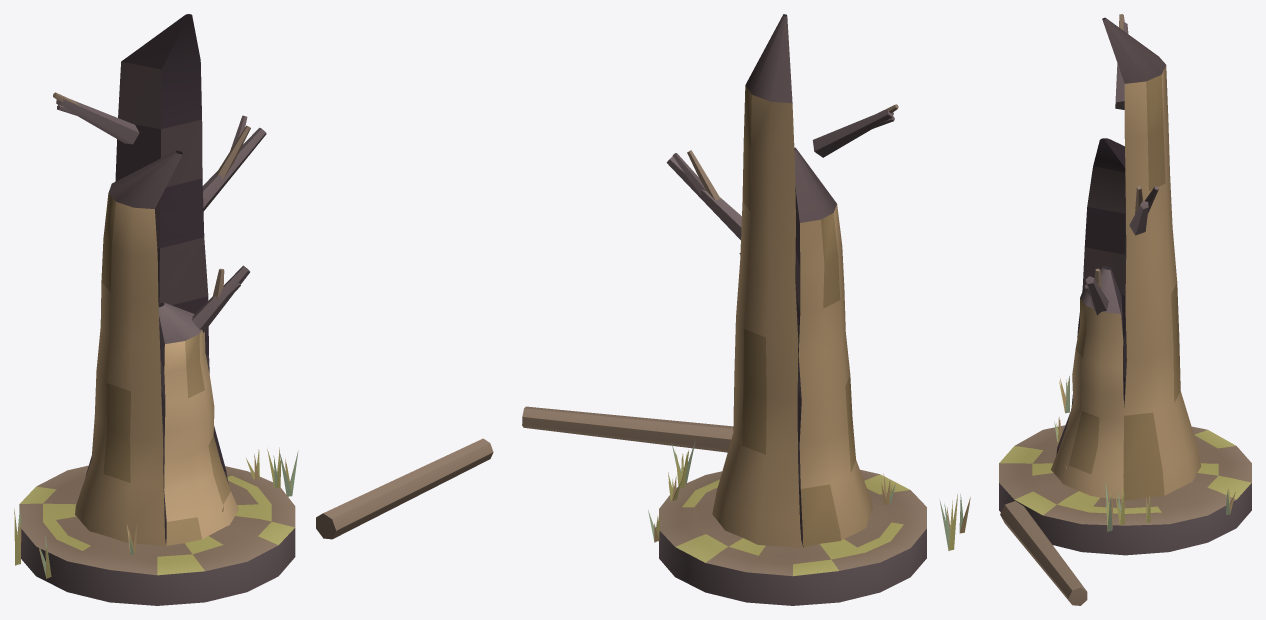
The model's file is nash_shattered_trees_v1.glb.
The picture shows the model from 3 angles, left to right: view 1: azimuth 30°, elevation 25°; view 2: azimuth 150°, elevation 25°; view 3: azimuth 270°, elevation 25°; orthographic projection. The views are drawn at different scales.
Parts seen in each view (by area): view 1: Body; view 2: Body; view 3: Body.
Part boxes in pixels (bbox=[...]): Body: bbox=[14, 14, 493, 605]; Body: bbox=[522, 14, 970, 605]; Body: bbox=[999, 14, 1251, 605].
Size of the model in its own units: 0.5195 by 0.576 by 0.2688.
